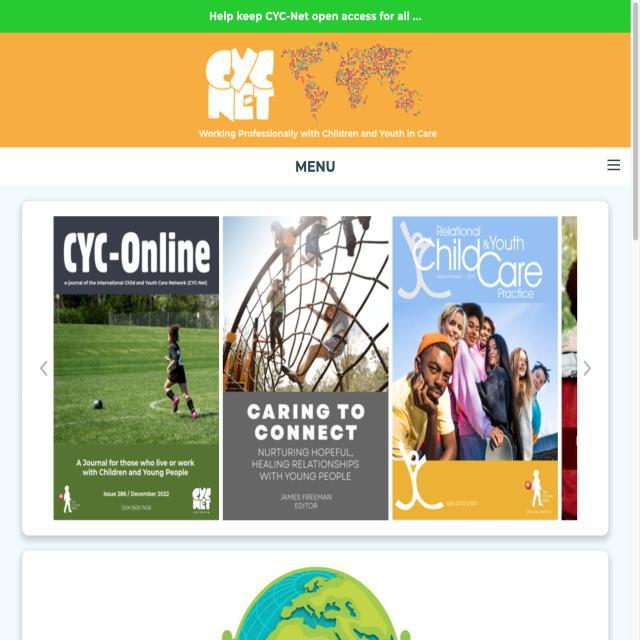image: (50, 216, 578, 525)
